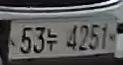1: (100, 22, 109, 51)
2: (78, 23, 89, 53)
3: (34, 25, 46, 54)
4: (65, 22, 78, 52)
5: (18, 25, 33, 55), (88, 23, 101, 51)
누: (46, 27, 59, 53)
